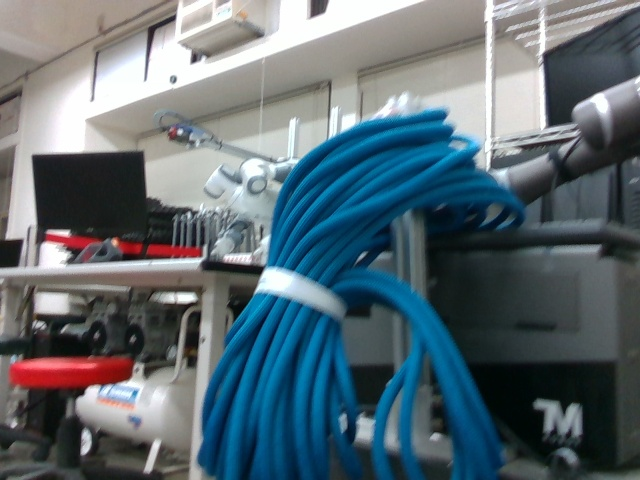rope: (196, 106, 527, 480)
